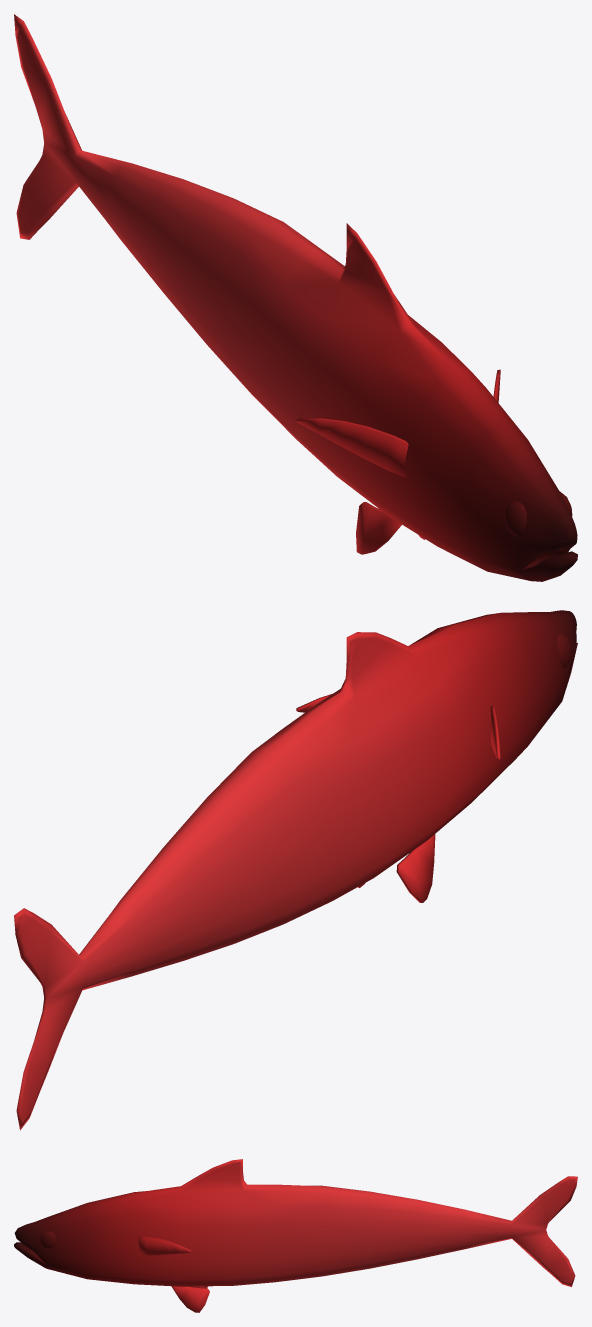
3 views of the same model, one above another, from view 1: azimuth 30°, elevation 25°; view 2: azimuth 150°, elevation 25°; view 3: azimuth 270°, elevation 25° (orthographic). The views are drawn at different scales.
Parts seen in each view (by area): view 1: Mackerel.001; view 2: Mackerel.001; view 3: Mackerel.001.
Part boxes in pixels (x1,y1,x2,y2): Mackerel.001: [14, 14, 577, 581]; Mackerel.001: [14, 610, 577, 1130]; Mackerel.001: [14, 1159, 577, 1312].
Size of the model in its own units: 0.1079 by 0.1464 by 0.5129.
